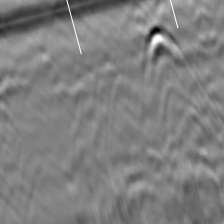Utility: (140, 22, 185, 74)
